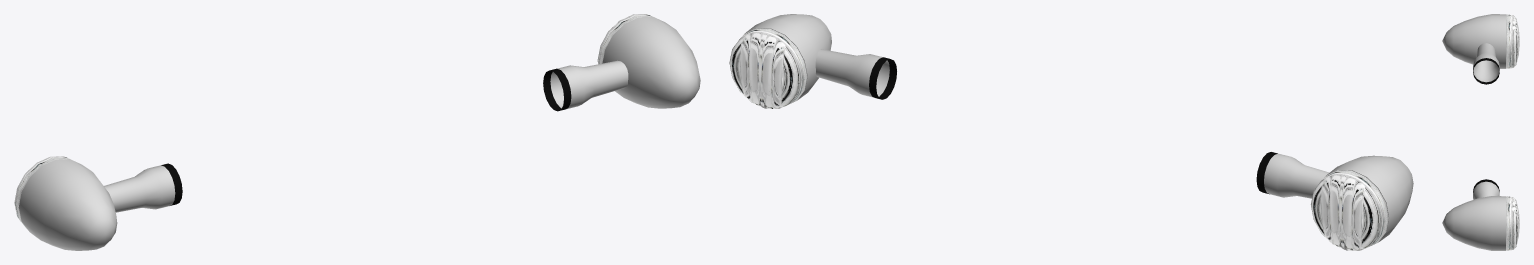
File: FrontTurnSignals_STOCK_WHITE.glb
3 views of the same model, side by side, from view 1: azimuth 30°, elevation 25°; view 2: azimuth 150°, elevation 25°; view 3: azimuth 270°, elevation 25° (orthographic). The views are drawn at different scales.
Visible parts, largest first — view 1: material, Signal_TSW_GLSS; view 2: material, Signal_TSW_GLSS; view 3: material, Signal_TSW_GLSS.
Boxes of the visible parts, bbox=[...] form: material: bbox=[18, 16, 700, 250]; Signal_TSW_GLSS: bbox=[14, 14, 652, 229]; material: bbox=[745, 14, 1413, 242]; Signal_TSW_GLSS: bbox=[729, 28, 1388, 250]; material: bbox=[1442, 14, 1505, 250]; Signal_TSW_GLSS: bbox=[1506, 14, 1519, 250].
Bounding box in the file's own units: 0.574 × 0.065 × 0.0919.
Materials: 4 (1 with a texture image).
